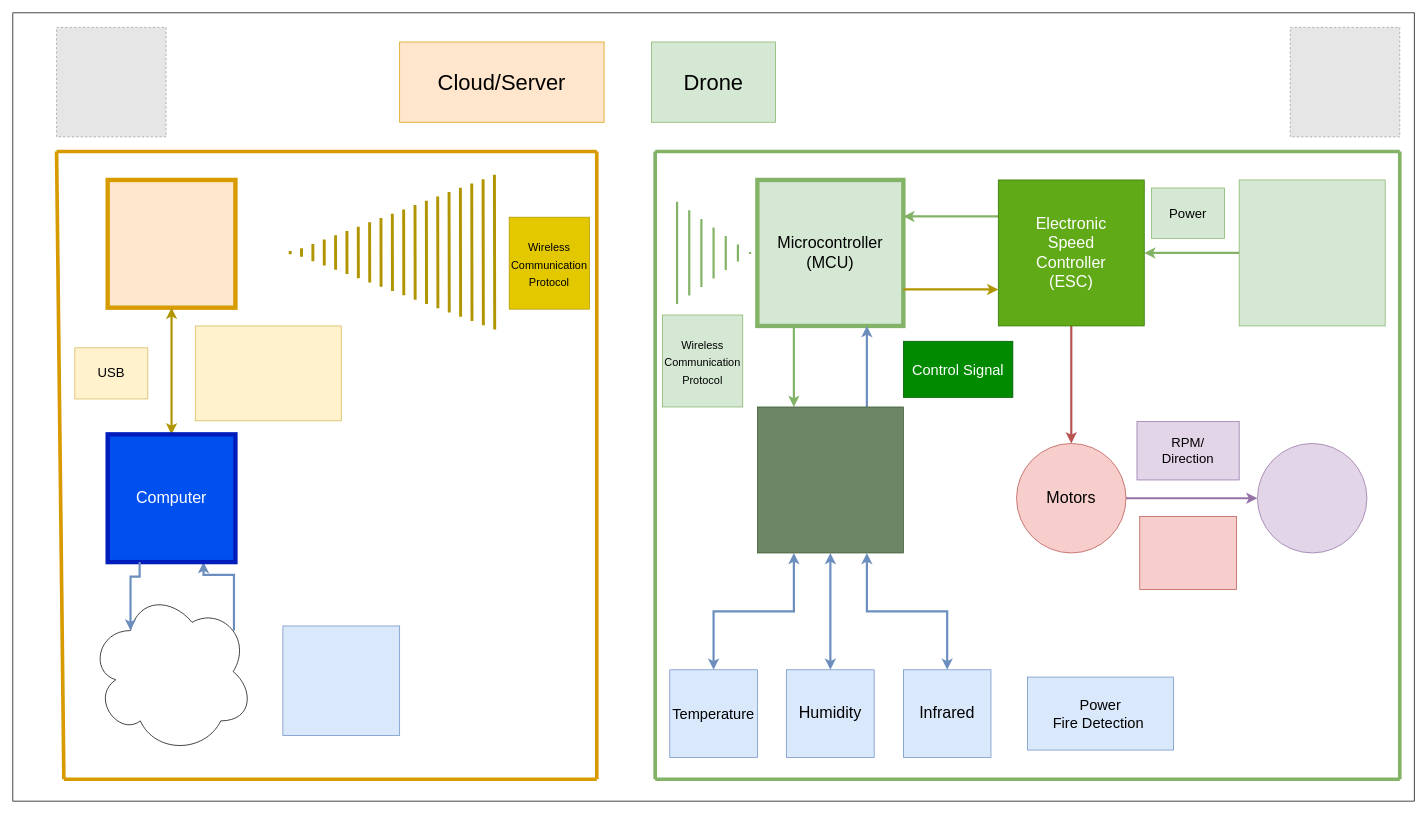
Image size: 1428x815. Some labels were removed from this diagram. Grey dashed boxes stand in for pictures. Each missing label, with the centre of its shape:
"Battery" goes at point (1311, 252).
"Drone-Instructions Sensor Data" goes at point (268, 373).
"Ground Station Microcontroller (MCU)" goes at point (171, 243).
"Power/ Control Signal" goes at point (1187, 552).
"Propellers" goes at point (1312, 498).
"Sensor Readings Stored Data" goes at point (341, 680).
"Sensors" goes at point (830, 479).
"Server" goes at point (171, 671).
